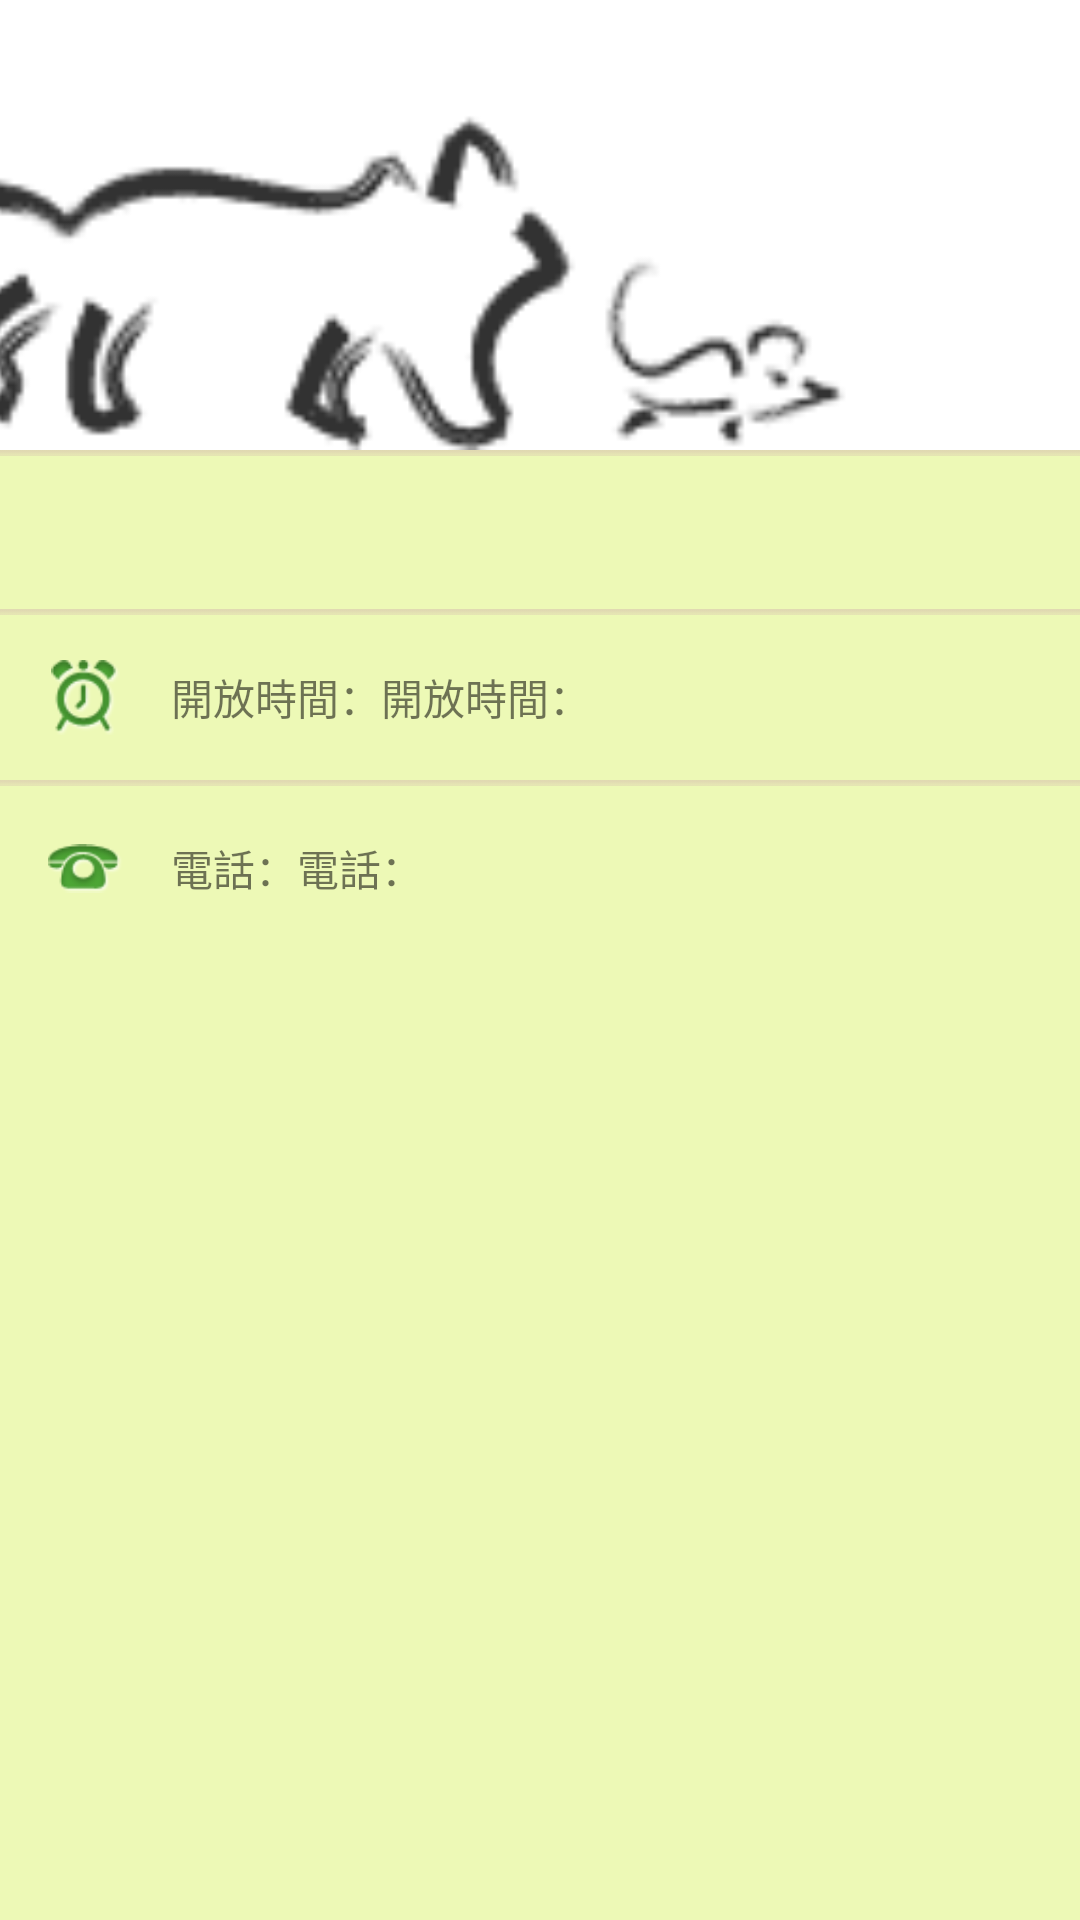

Icon bounding boxes for this 1080x1920 phone screenshot, format Rect(x1, y1, x2, y2):
detail vst opentime: Rect(51, 660, 117, 732)
detail vst tel: Rect(48, 844, 119, 891)
